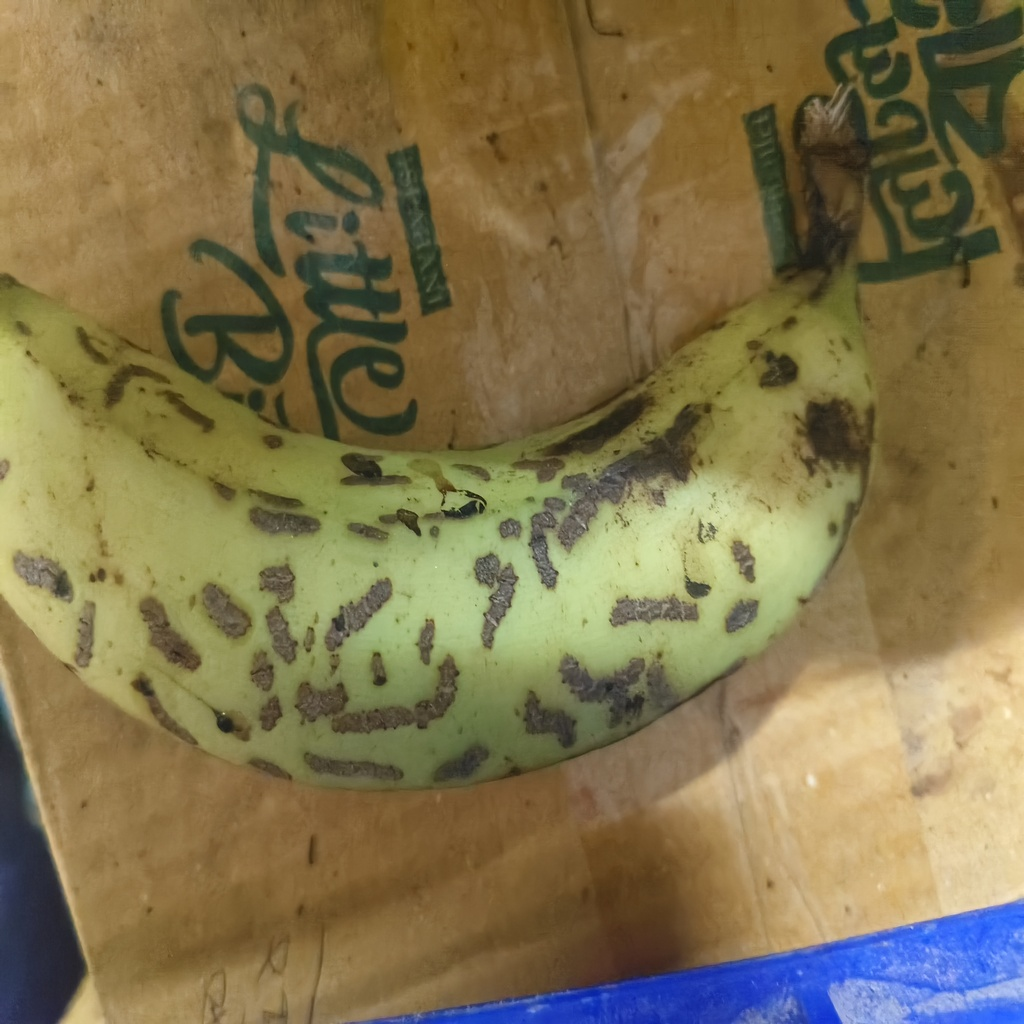unhealthy: (1, 259, 862, 772)
